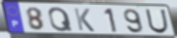1: (104, 7, 119, 34)
8: (25, 7, 46, 32)
9: (123, 8, 145, 34)
K: (73, 7, 97, 33)
Q: (47, 6, 75, 33)
U: (145, 8, 170, 35)
